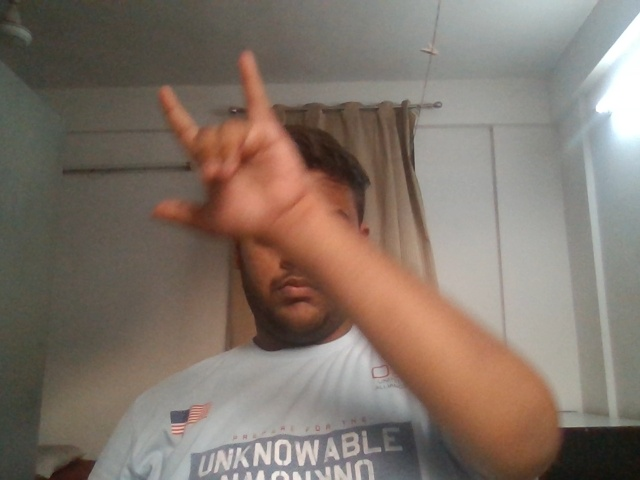I Love You: (122, 34, 363, 258)
